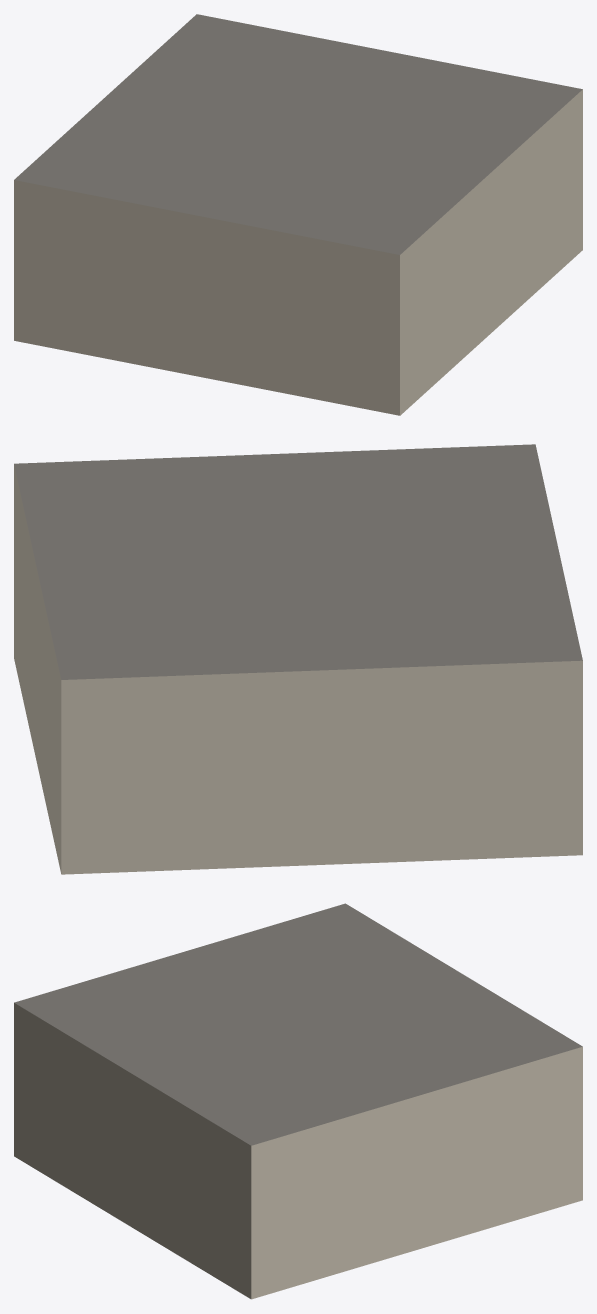
The picture shows the model from 3 angles, top to bottom: view 1: azimuth 30°, elevation 25°; view 2: azimuth 150°, elevation 25°; view 3: azimuth 270°, elevation 25°; orthographic projection. The views are drawn at different scales.
Parts seen in each view (by area): view 1: HP-w369342492; view 2: HP-w369342492; view 3: HP-w369342492.
Part boxes in pixels (box(x1,y1,x2,y2)): HP-w369342492: box(14, 14, 582, 415); HP-w369342492: box(14, 444, 582, 874); HP-w369342492: box(14, 903, 582, 1299).
Size of the model in its own units: 60.87 by 18 by 60.39.
